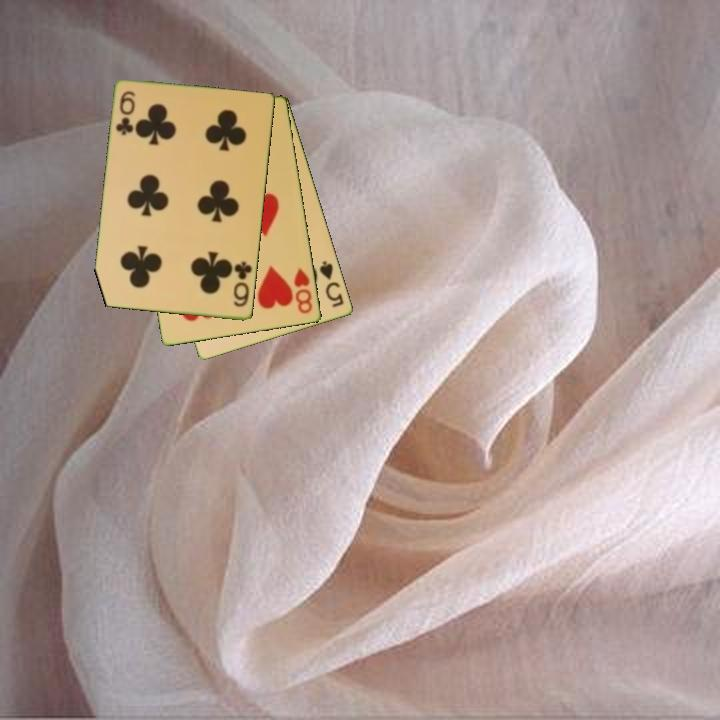5s: (316, 257, 347, 310)
6c: (230, 258, 255, 310), (112, 88, 138, 138)
8h: (291, 265, 315, 317)
